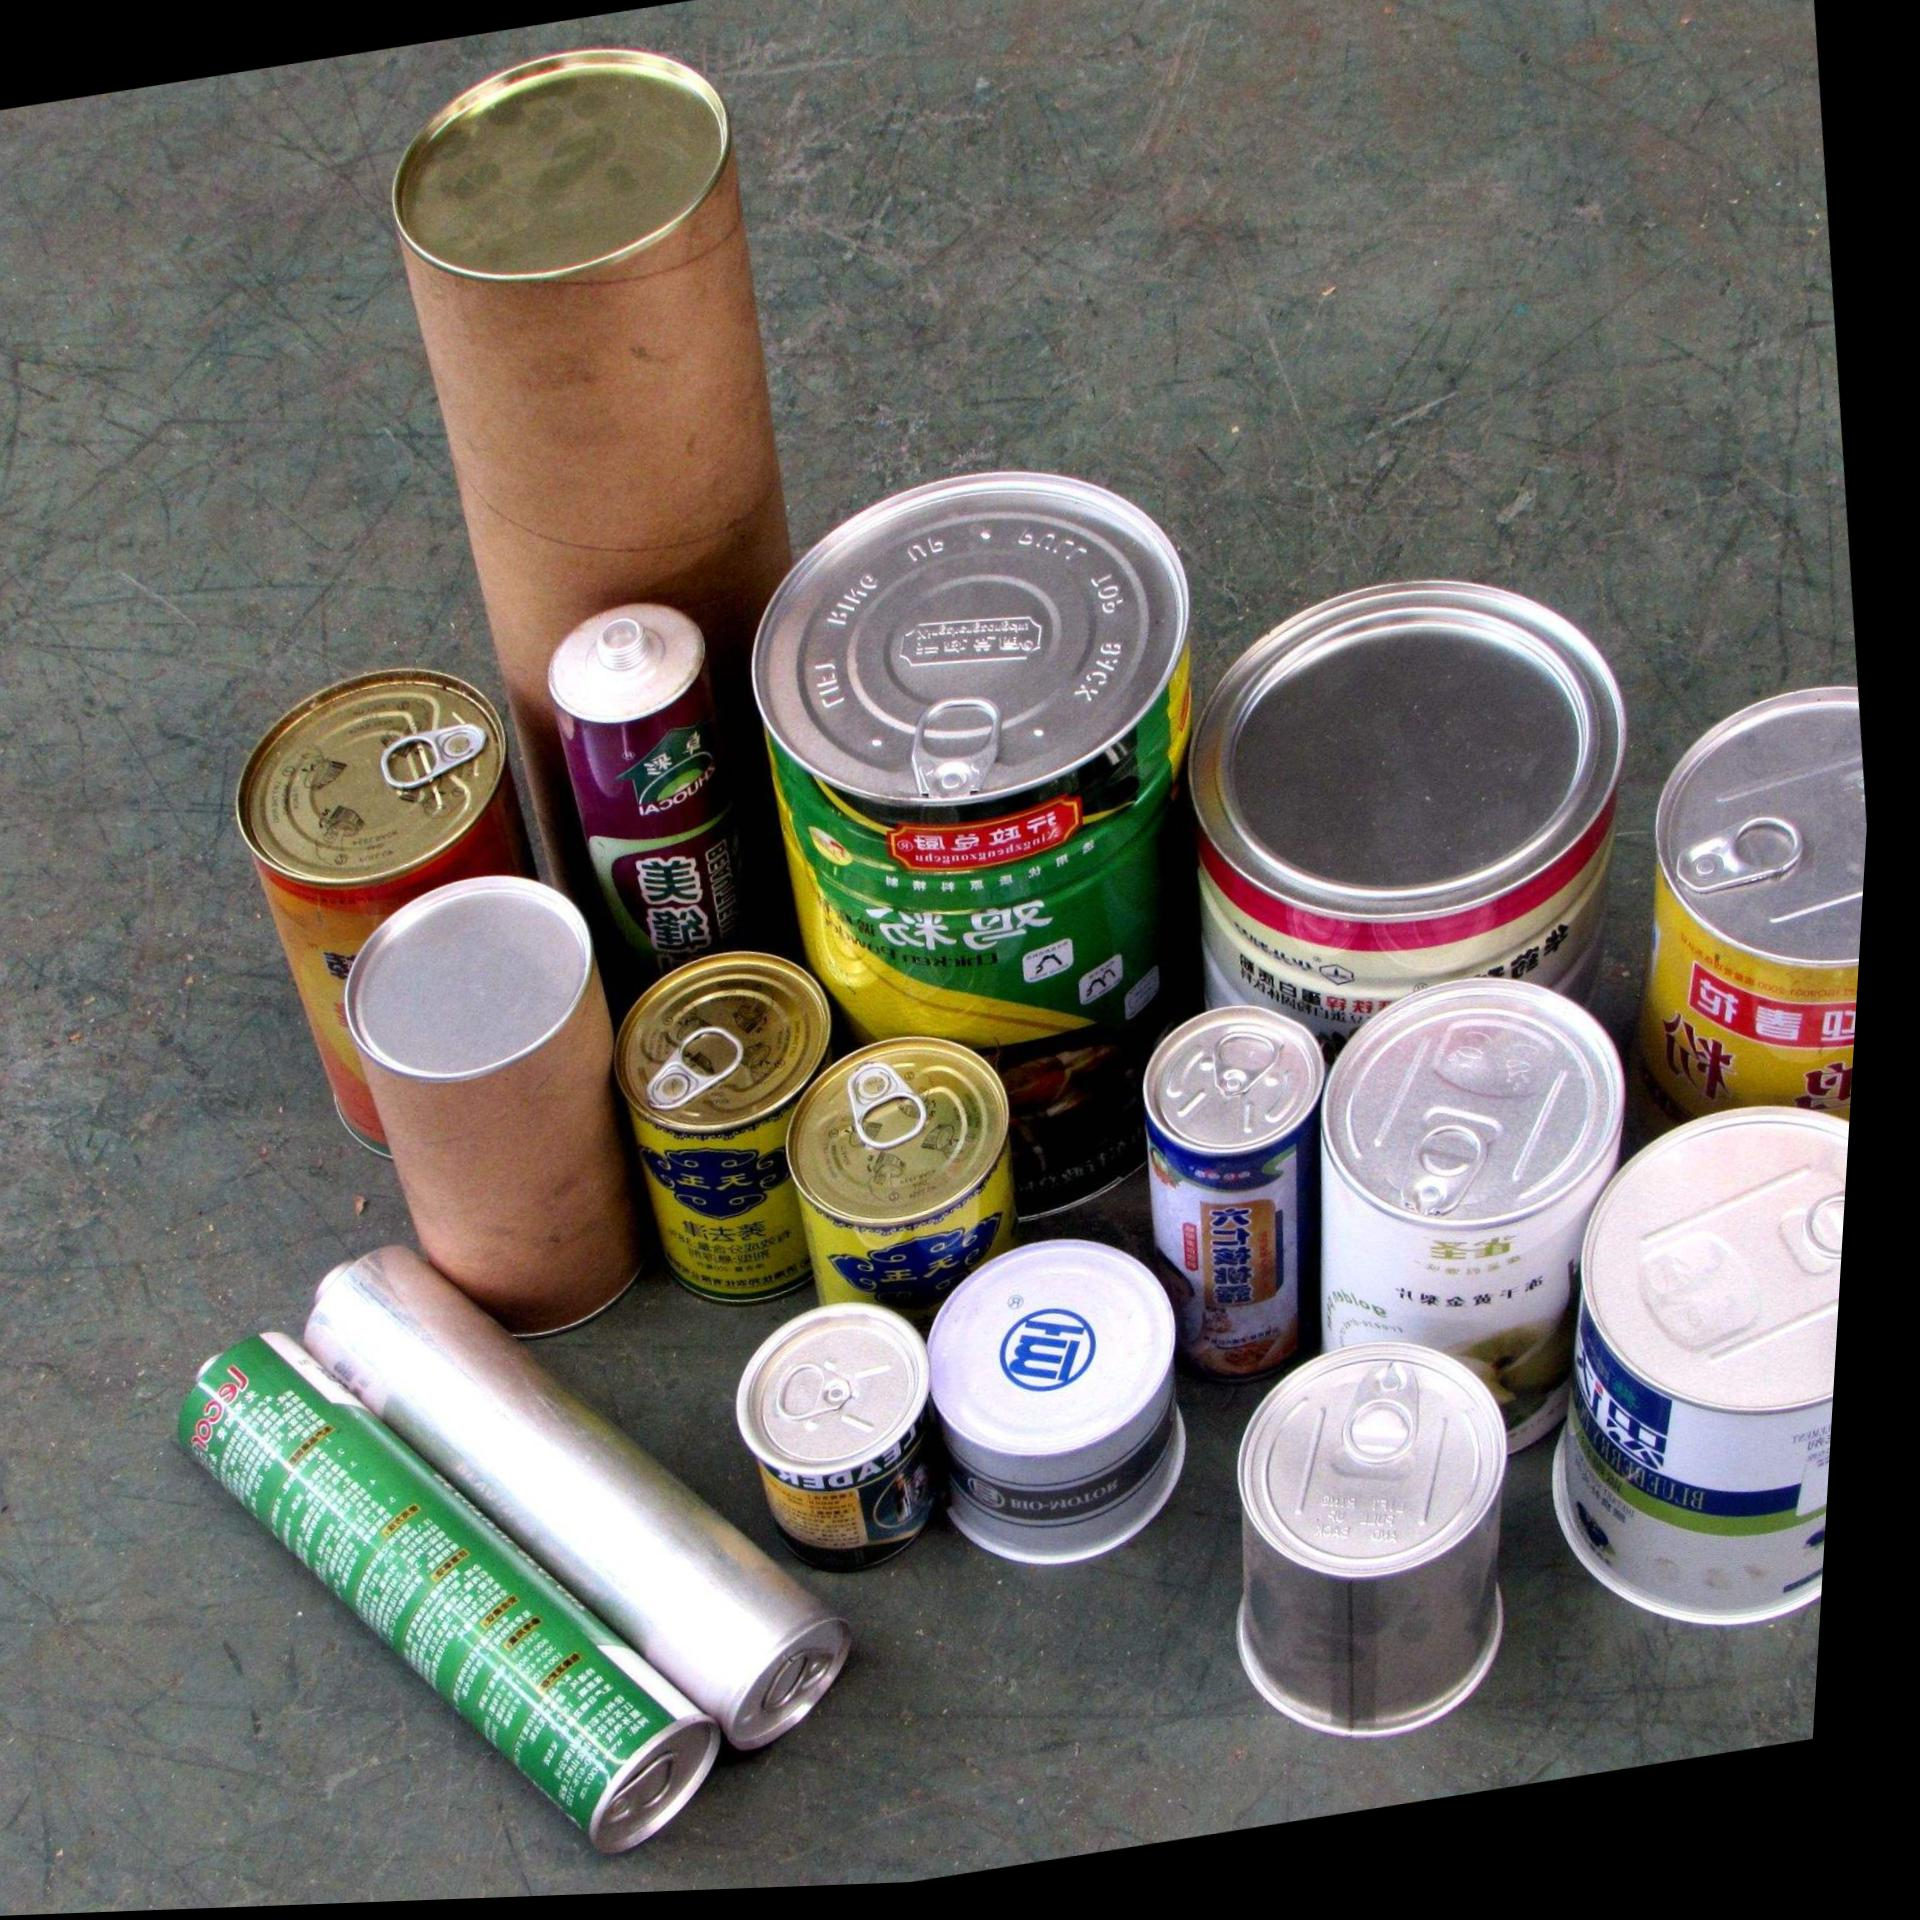metal: (753, 471, 1190, 1109), (179, 1333, 717, 1850), (304, 1245, 851, 1749), (392, 47, 789, 696), (1189, 578, 1626, 1053), (1551, 1104, 1850, 1625), (236, 666, 533, 1152), (1319, 978, 1623, 1447), (345, 874, 640, 1335), (1236, 1340, 1505, 1737), (1637, 686, 1867, 1120), (927, 1238, 1187, 1563), (547, 601, 745, 1002), (615, 949, 832, 1301), (1145, 1004, 1326, 1380), (788, 1036, 1016, 1326), (737, 1301, 935, 1570)
